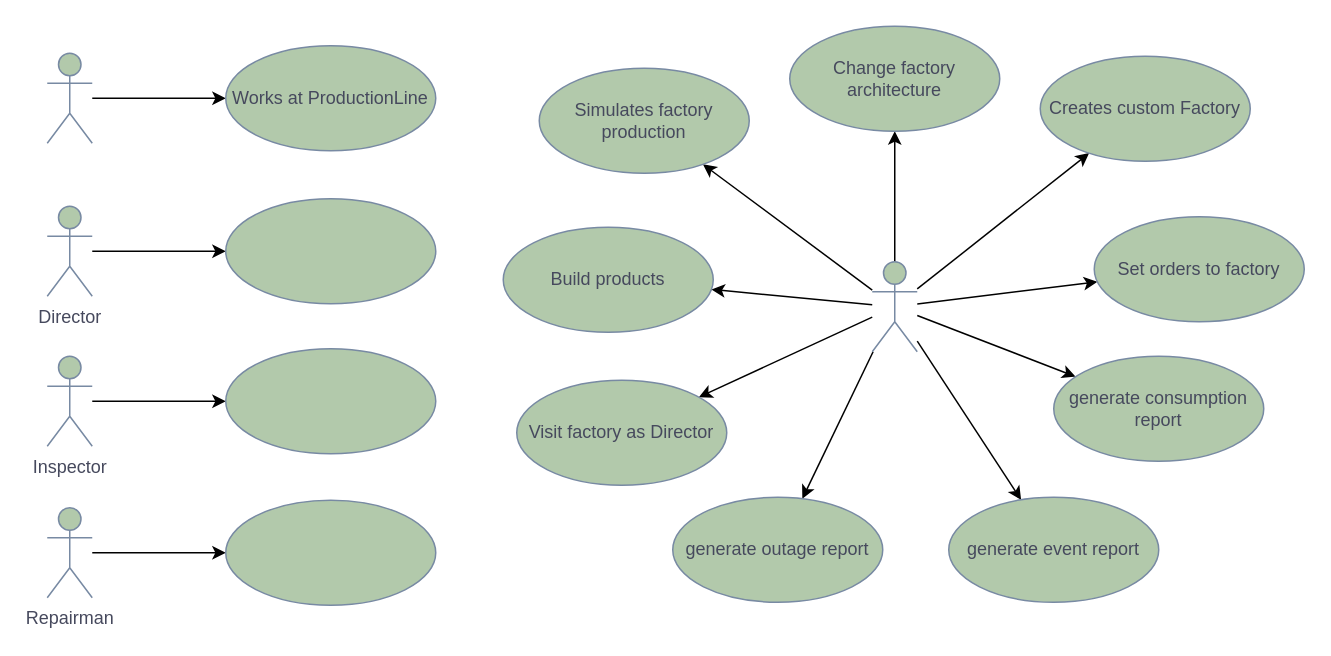
Image size: 1331x656. Some labels were removed from this diagram. Here are the shapes that lost their labels. From the top down, the centre of each, then its label:
point 69,97: Worker
point 330,250: Checks factory hierarchically
point 894,306: Factory Owner
point 330,400: Checks factory by the level of usage
point 330,552: Repairs broken equipment
